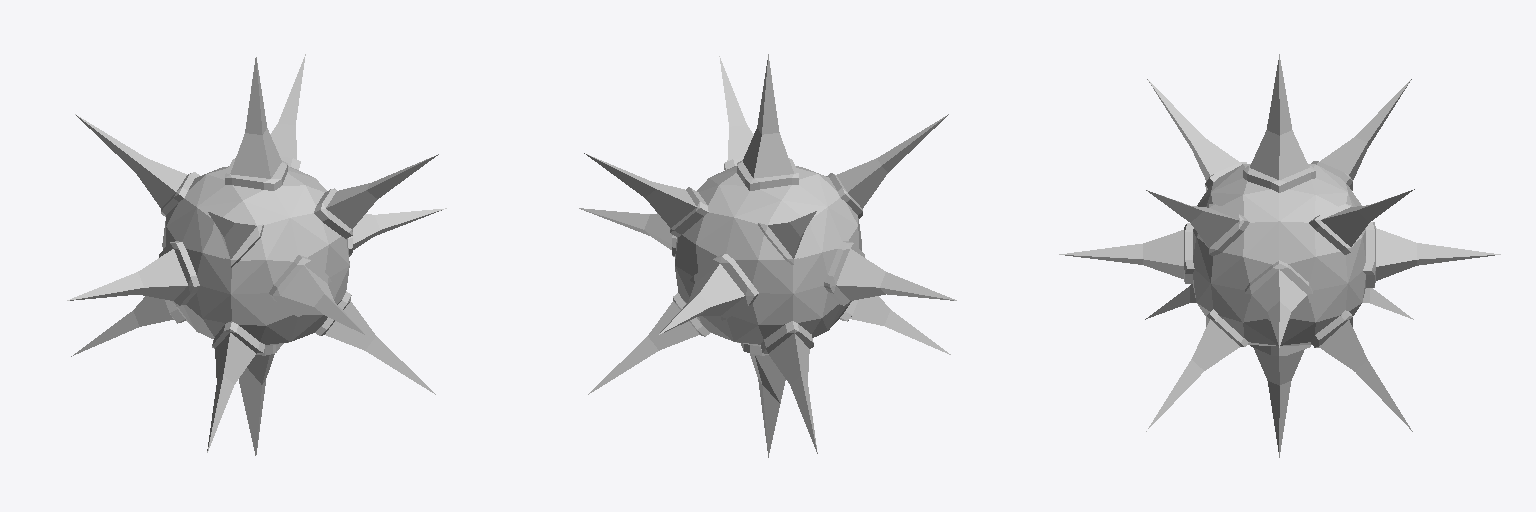
Rendered from grenade.obj.
The picture shows the model from 3 angles: view 1: azimuth 30°, elevation 25°; view 2: azimuth 150°, elevation 25°; view 3: azimuth 270°, elevation 25°; orthographic projection.
Visible parts, largest first — view 1: Icosphere; view 2: Icosphere; view 3: Icosphere.
Boxes of the visible parts, x1=… form: Icosphere: x1=67, y1=54, x2=446, y2=455; Icosphere: x1=579, y1=54, x2=956, y2=457; Icosphere: x1=1059, y1=54, x2=1500, y2=457.
Bounding box in the file's own units: 1.23 × 1.24 × 1.24.